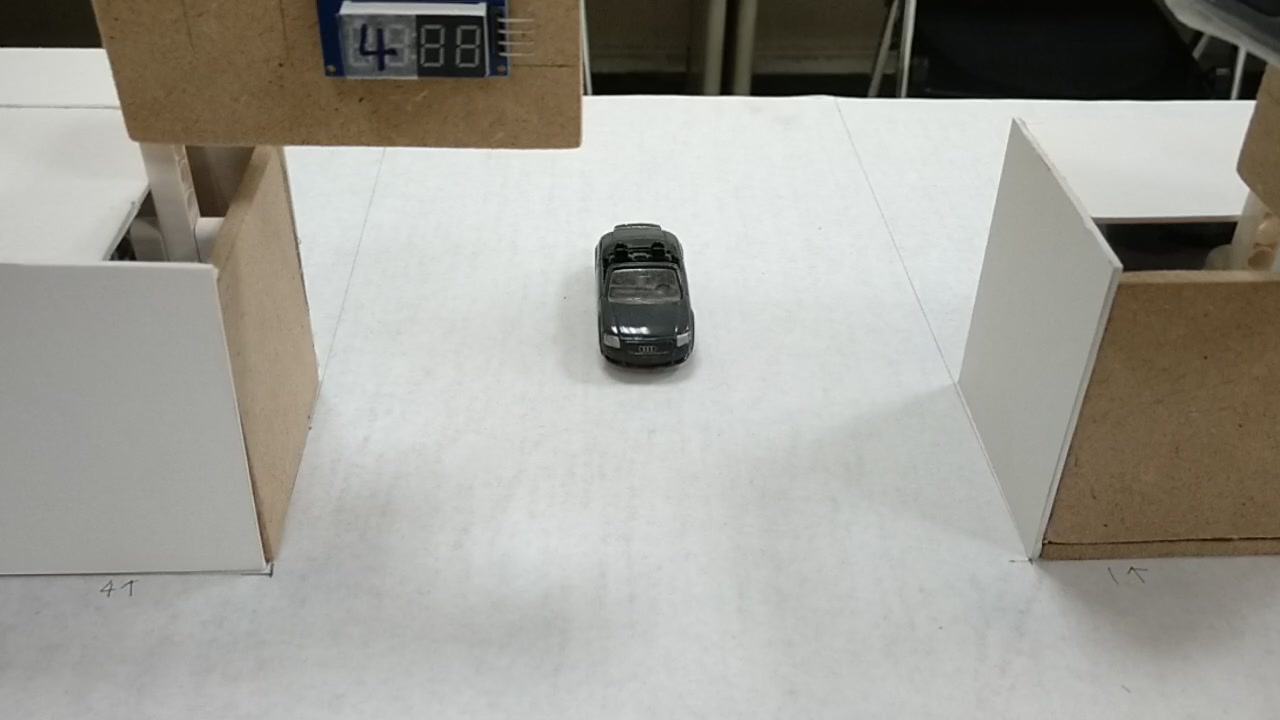car: (594, 219, 694, 369)
